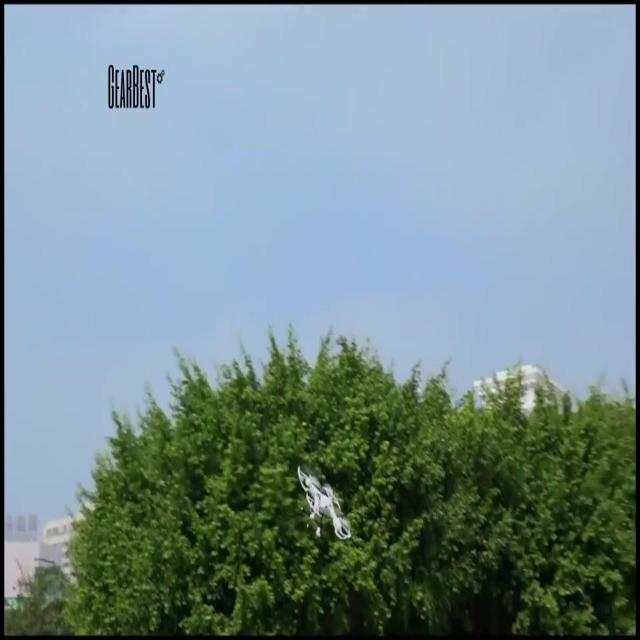drone: (293, 464, 351, 552)
